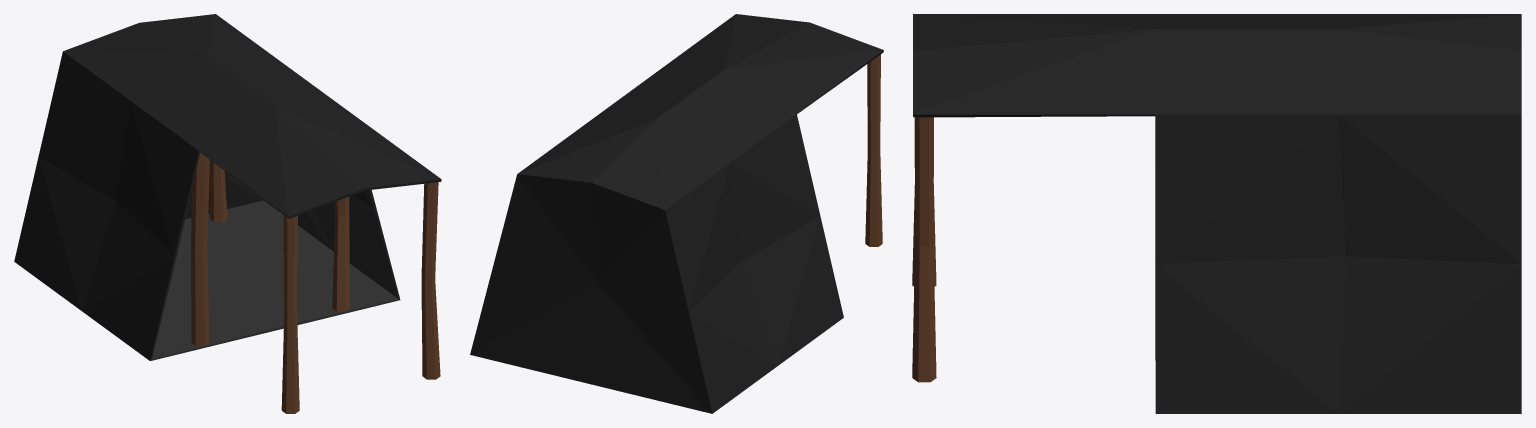
File: Tent_4_Black.fbx
3 views of the same model, side by side, from view 1: azimuth 30°, elevation 25°; view 2: azimuth 150°, elevation 25°; view 3: azimuth 270°, elevation 25° (orthographic). The views are drawn at different scales.
Visible parts, largest first — view 1: Tent_4_Black_Part_2, Tent_4_Black_Part_3, Tent_4_Black_Part_1, Tent_4_Black_Part_4, Tent_4_Black_Part_8, Tent_4_Black_Part_6, Tent_4_Black_Part_7, Tent_4_Black_Part_9, Tent_4_Black_Part_11, Tent_4_Black_Part_5; view 2: Tent_4_Black_Part_5, Tent_4_Black_Part_2, Tent_4_Black_Part_3, Tent_4_Black_Part_7; view 3: Tent_4_Black_Part_4, Tent_4_Black_Part_2, Tent_4_Black_Part_6.
Boxes of the visible parts, <box> form: Tent_4_Black_Part_2: <box>63,14,441,218</box>; Tent_4_Black_Part_3: <box>14,51,200,360</box>; Tent_4_Black_Part_1: <box>151,200,399,360</box>; Tent_4_Black_Part_4: <box>264,190,400,299</box>; Tent_4_Black_Part_8: <box>191,152,209,345</box>; Tent_4_Black_Part_6: <box>421,182,440,379</box>; Tent_4_Black_Part_7: <box>281,215,299,413</box>; Tent_4_Black_Part_9: <box>332,196,350,311</box>; Tent_4_Black_Part_11: <box>209,160,227,222</box>; Tent_4_Black_Part_5: <box>185,160,263,219</box>; Tent_4_Black_Part_5: <box>470,174,712,413</box>; Tent_4_Black_Part_2: <box>517,14,883,209</box>; Tent_4_Black_Part_3: <box>665,114,843,413</box>; Tent_4_Black_Part_7: <box>865,54,882,246</box>; Tent_4_Black_Part_4: <box>1155,114,1521,413</box>; Tent_4_Black_Part_2: <box>913,14,1521,117</box>; Tent_4_Black_Part_6: <box>912,117,936,382</box>.
Size of the model in its own units: 320 by 274 by 501.
